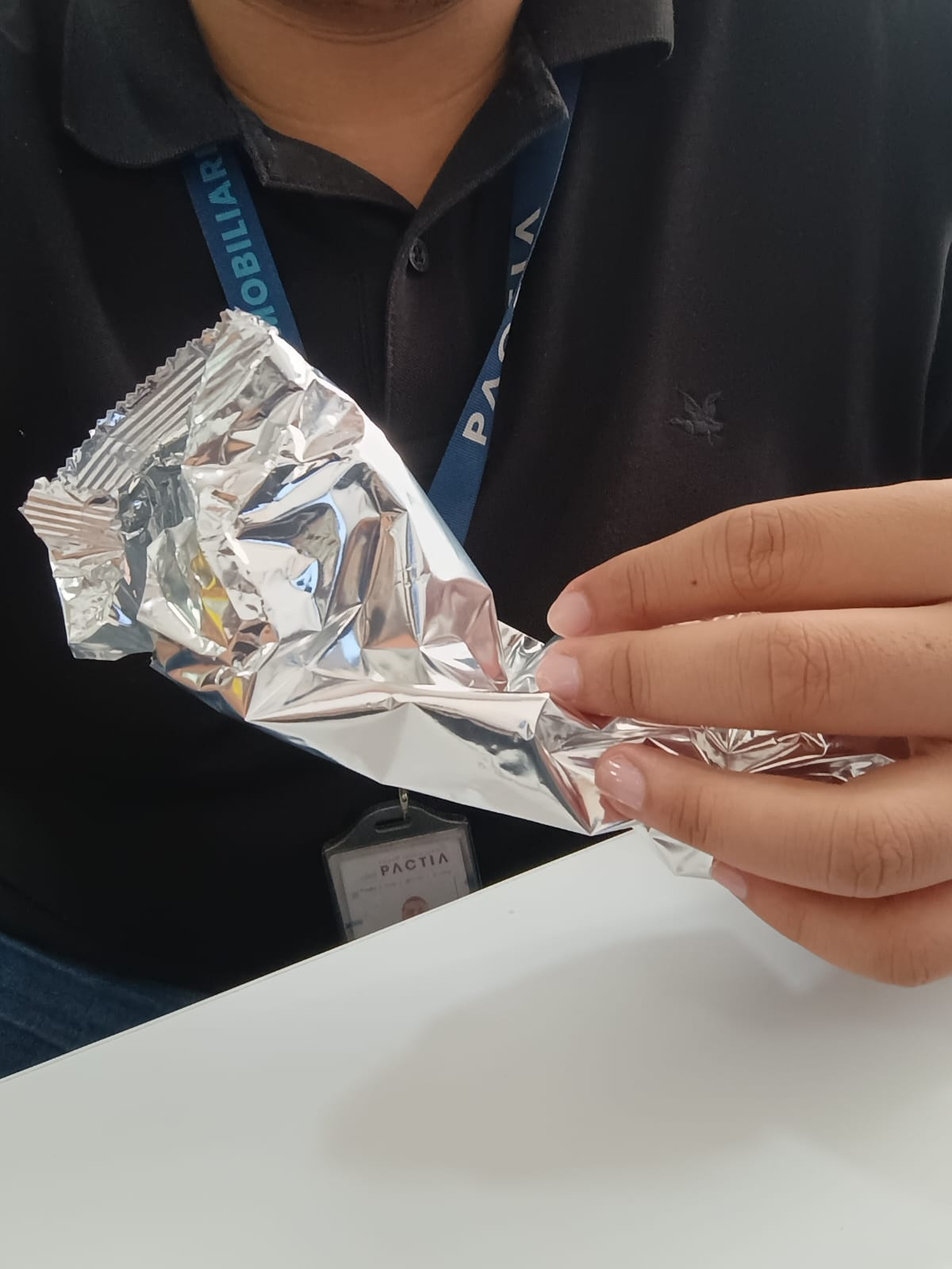Ordinario: (19, 310, 708, 837)
